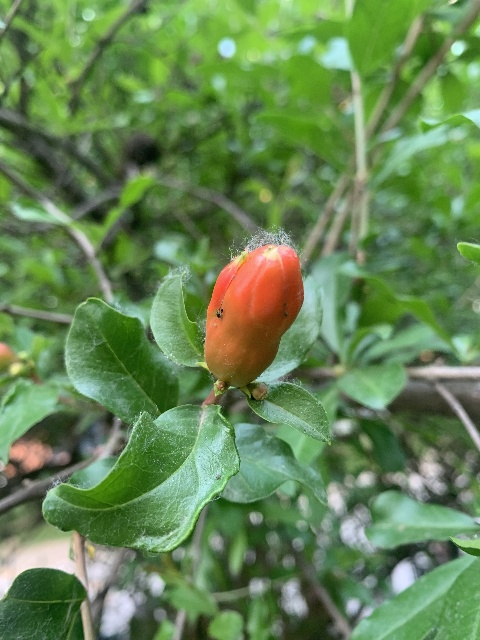bud: (205, 243, 304, 385)
